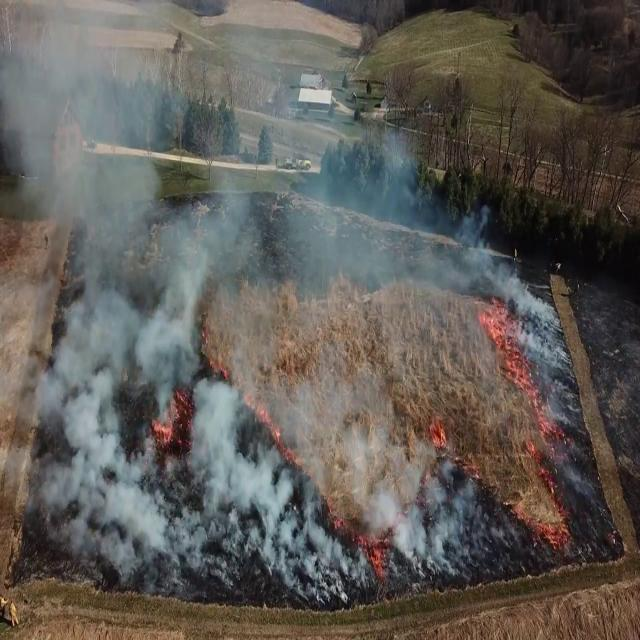Smoke: (4, 33, 516, 596)
